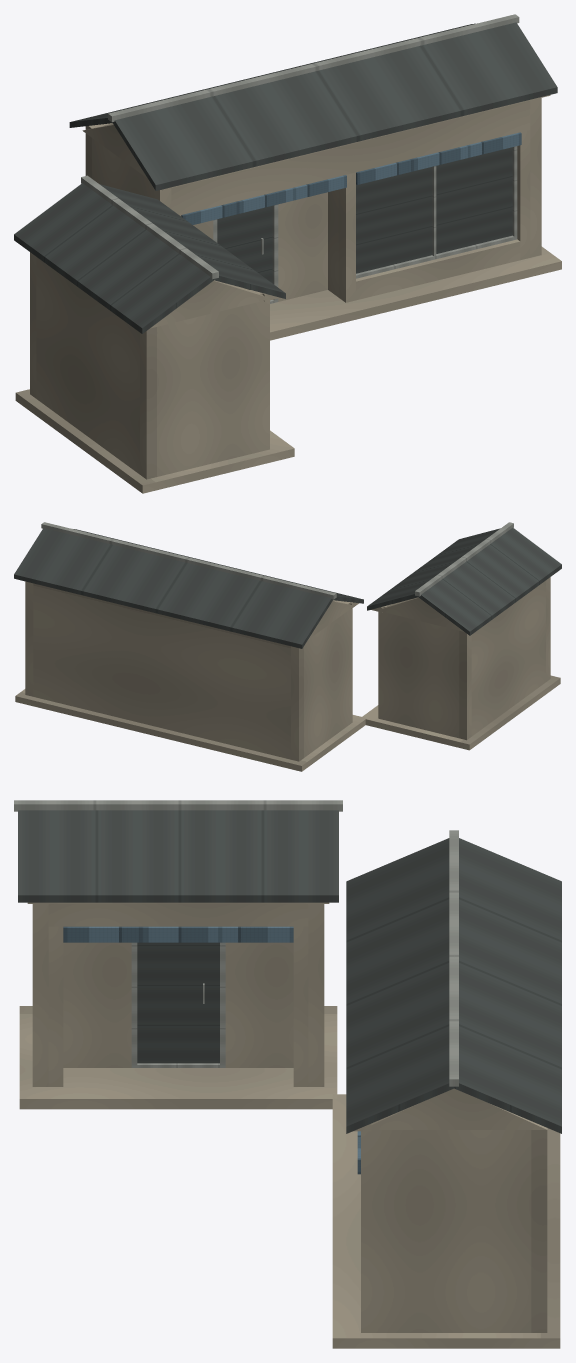
File: zurich.glb
3 renders of one model, top to bottom at view 1: azimuth 30°, elevation 25°; view 2: azimuth 150°, elevation 25°; view 3: azimuth 270°, elevation 25°, orthographic. The views are drawn at different scales.
Visible parts, largest first — view 1: zurich; view 2: zurich; view 3: zurich.
Boxes of the visible parts, x1,y1,x2,y2 form: zurich: (14, 14, 561, 493); zurich: (14, 522, 561, 771); zurich: (14, 800, 561, 1348).
Bounding box in the file's own units: 8.6 × 3.25 × 5.94.
Materials: 1 (1 with a texture image).
